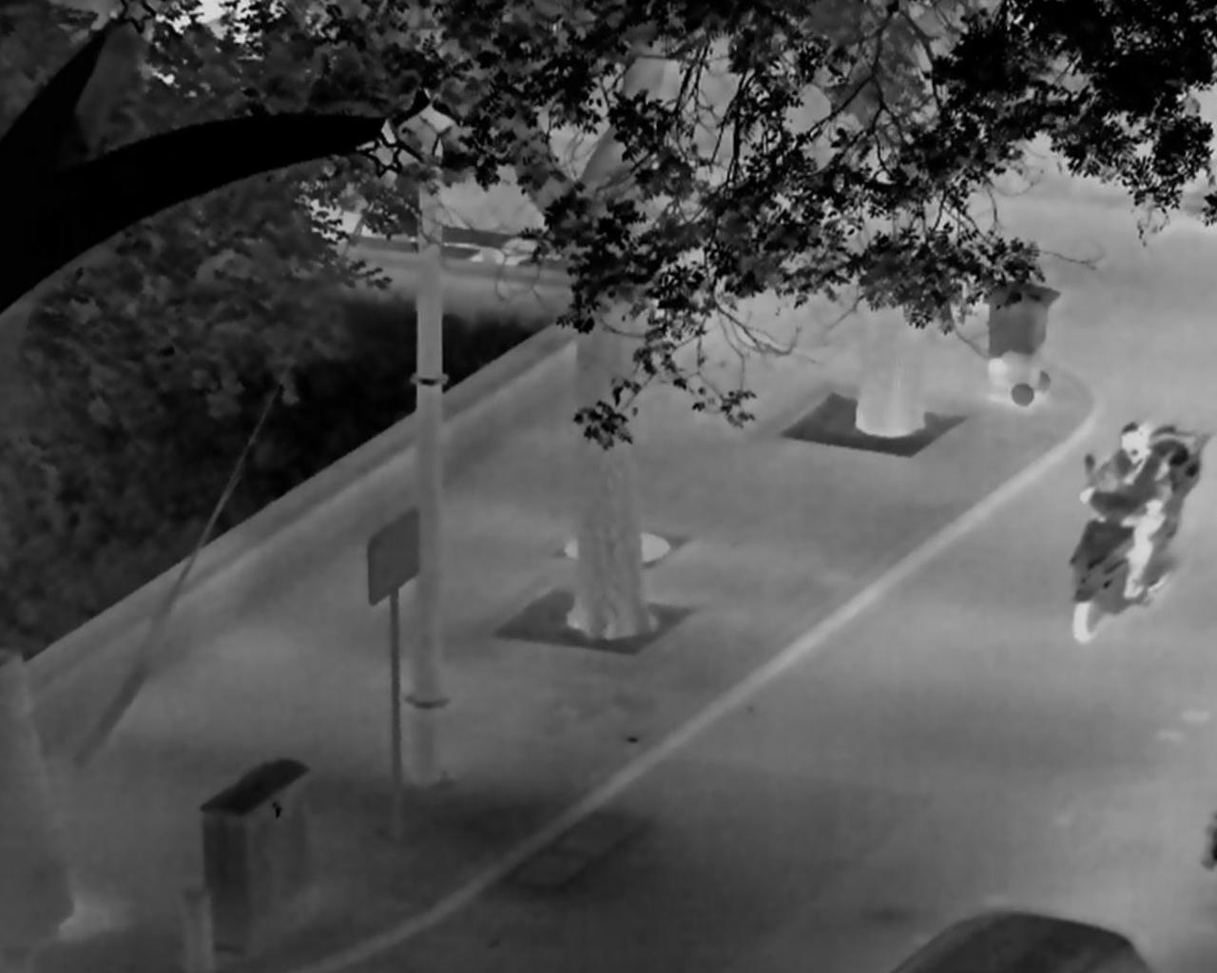person: (1079, 421, 1170, 601)
